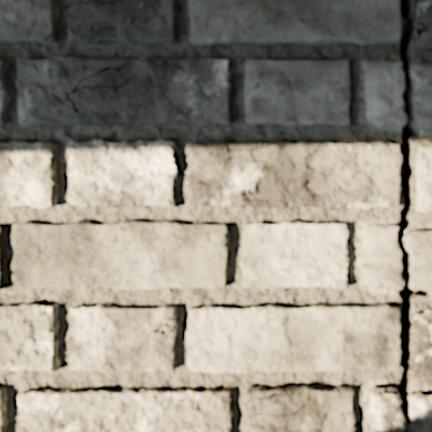brick: (12, 221, 228, 290), (16, 56, 230, 125), (190, 141, 400, 210), (187, 305, 400, 373), (189, 0, 400, 44), (19, 389, 234, 431), (67, 305, 179, 373), (68, 140, 177, 208), (245, 59, 349, 127), (242, 222, 347, 289), (248, 385, 354, 431), (67, 0, 177, 44), (0, 304, 60, 370), (0, 142, 56, 208), (0, 0, 57, 43), (412, 311, 431, 379), (416, 148, 431, 211), (416, 0, 431, 51), (0, 59, 10, 123), (0, 225, 8, 289), (0, 389, 8, 431), (98, 0, 118, 1), (75, 0, 91, 1)
broken_brick: (361, 224, 403, 292), (364, 60, 406, 127), (368, 386, 405, 431), (407, 230, 431, 291), (412, 64, 431, 132), (410, 391, 431, 431)
crack: (370, 0, 431, 431), (138, 319, 178, 351), (370, 400, 399, 431), (248, 406, 304, 419), (248, 387, 296, 402), (229, 140, 279, 152), (67, 0, 125, 9), (46, 32, 55, 42), (21, 420, 30, 424)
